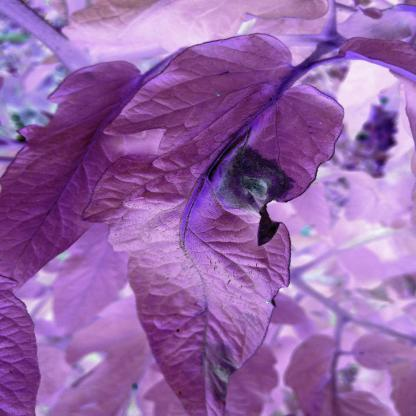Tomato leaf mosaic virus: (89, 33, 353, 412)
